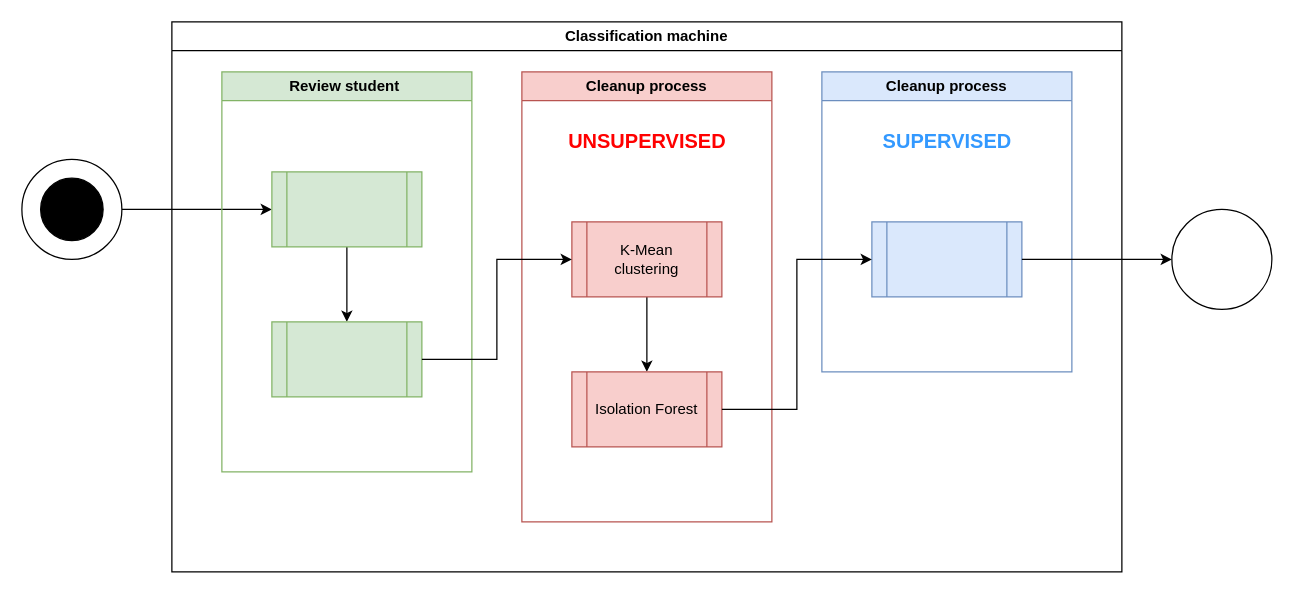
Image size: 1294x594. Some labels were removed from this diagram. The centre of each missing label's shape, as x and y in pixels:
Lasso Regression: pixel 946 259
Neural Network: pixel 346 209
Principal Component Analysis: pixel 346 359
